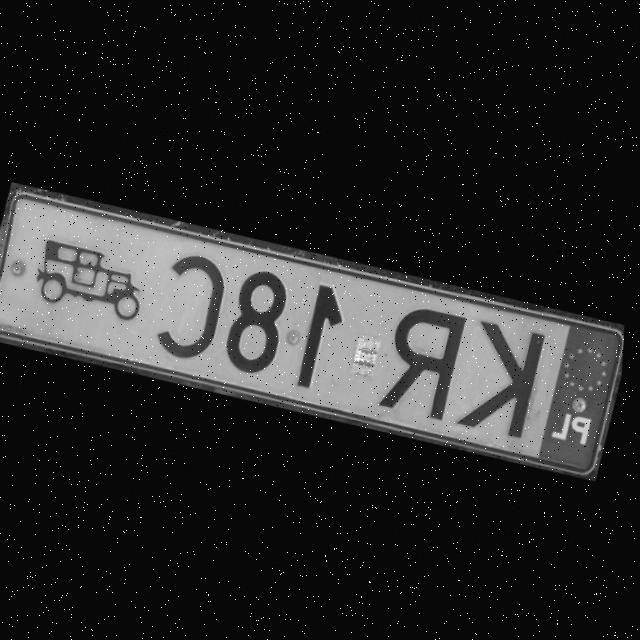license-plates: (0, 191, 624, 475)
